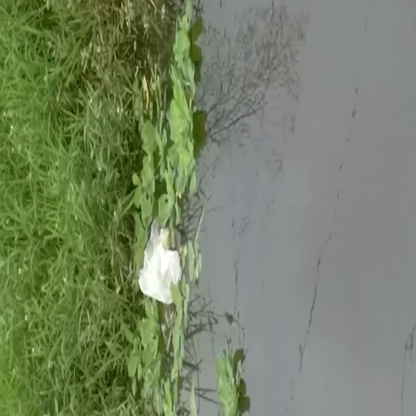plastic-bag: (127, 217, 199, 306)
